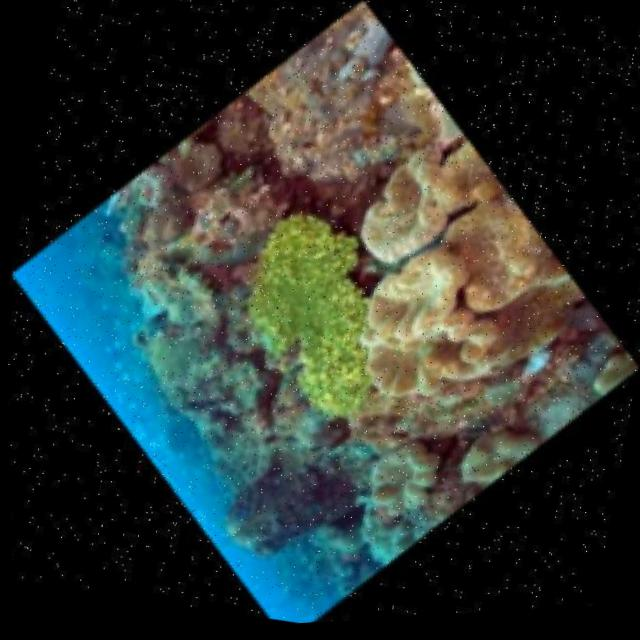Healthy Coral: (227, 233, 370, 408)
